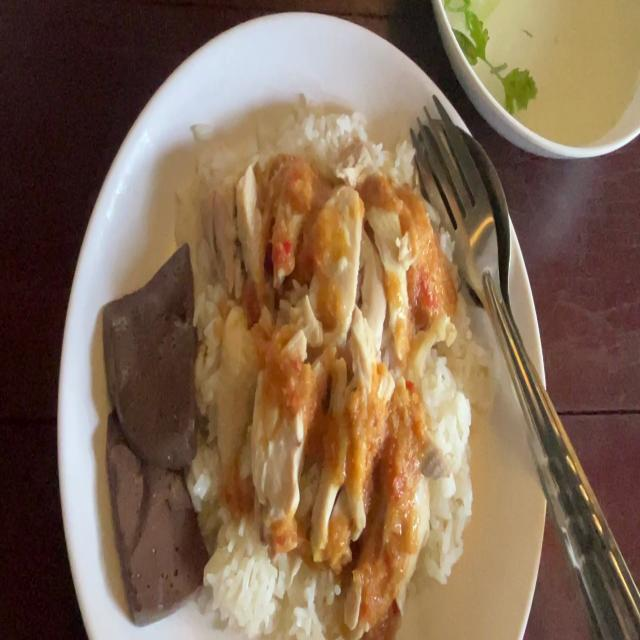boiled_chicken: (215, 155, 430, 557)
boiled_chicken_blood_jelly: (96, 248, 199, 469), (106, 407, 208, 617)
chicken_rice: (99, 106, 467, 640)
